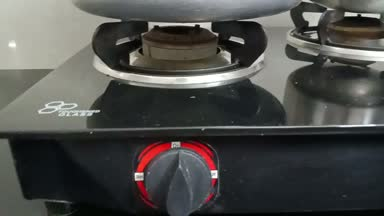noflame_gason: (90, 15, 264, 216)
